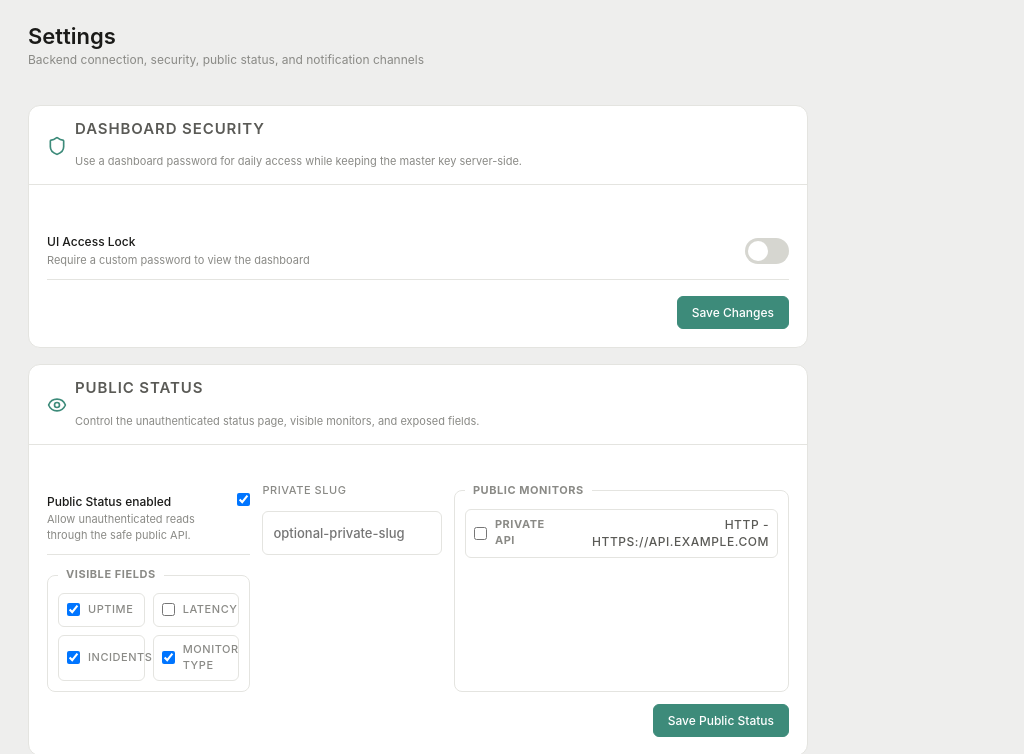
Test: Settings › persists Public Status monitor visibility from the backend response
This screenshot has width=1024, height=754.
Click the checkbox labelled "Private API HTTP - https://api.example.com": (480,533) top-left (474, 527), bottom-right (487, 540)
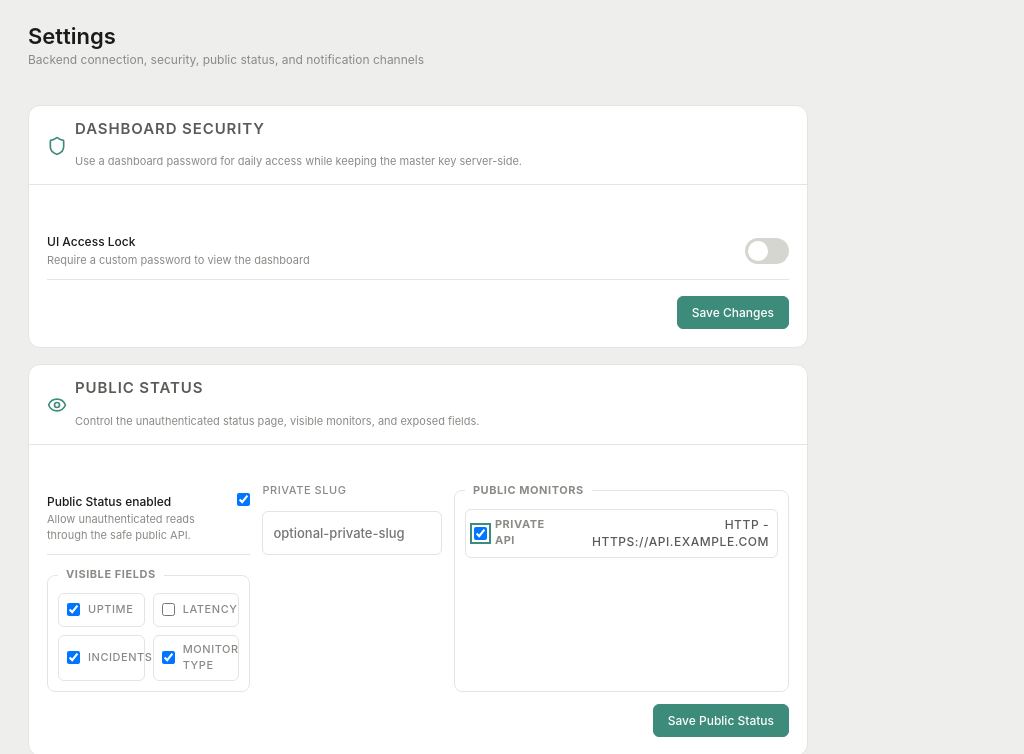
Click the button "Save Public Status": (721,721) top-left (653, 704), bottom-right (789, 737)
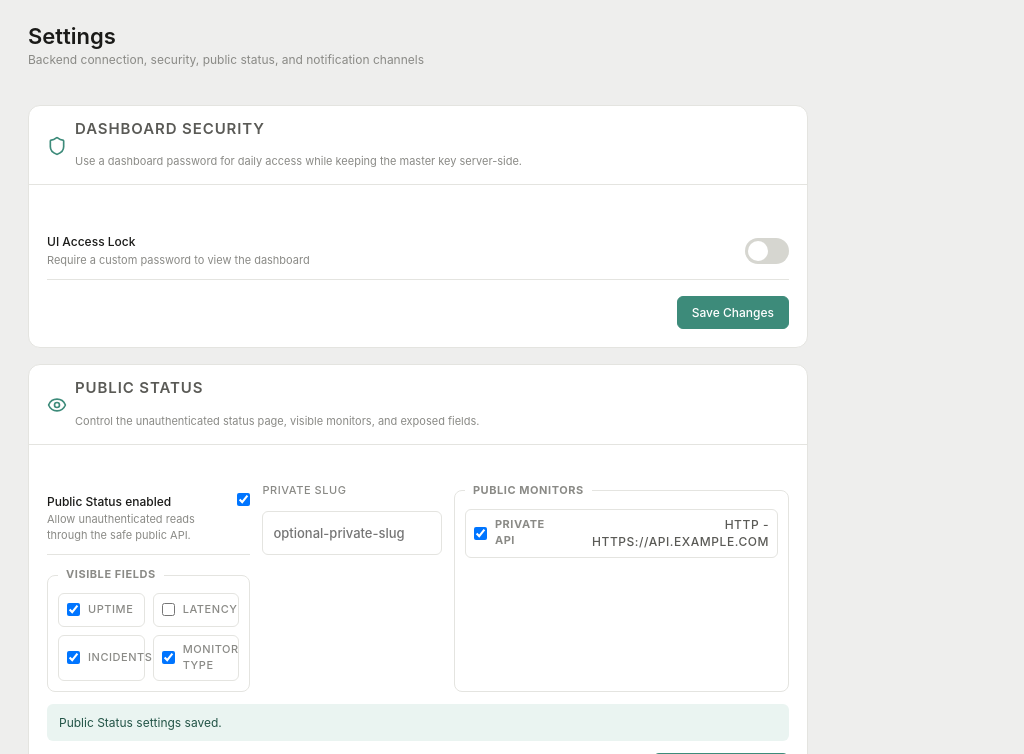
Expected: the checkbox labelled "Private API HTTP - https://api.example.com" is checked, top-left (474, 527), bottom-right (487, 540)
Expected: the text "Public Status settings saved." is shown, top-left (47, 704), bottom-right (789, 741)
